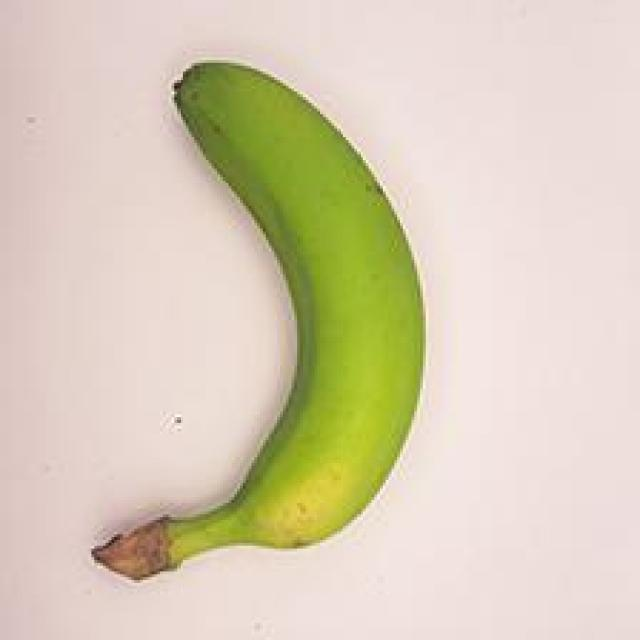Unripe: (80, 38, 432, 588)
